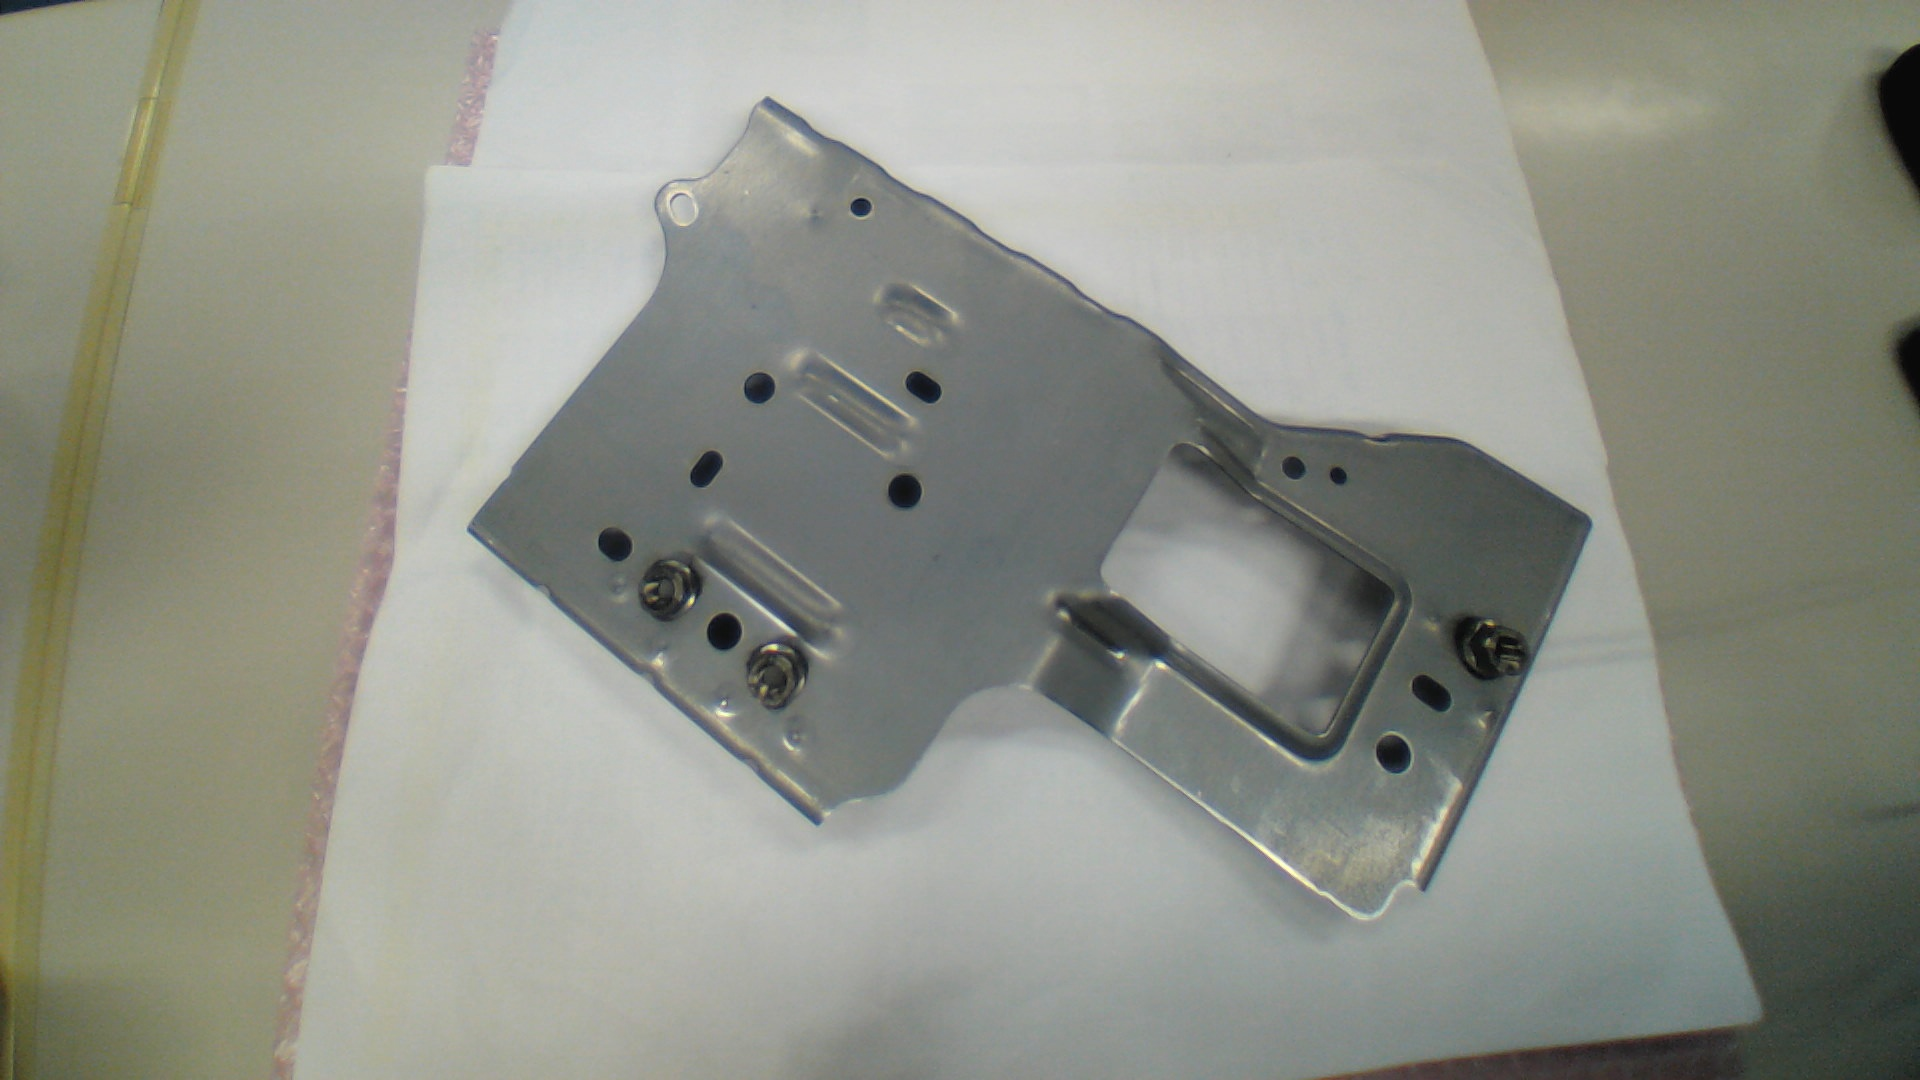dog: (1456, 616, 1530, 686), (638, 553, 703, 624), (744, 640, 808, 709)
